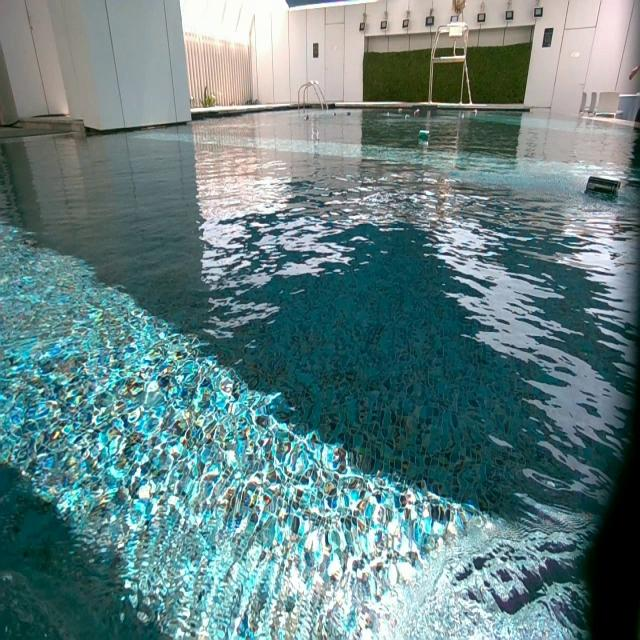Cans: (586, 177, 620, 200), (418, 132, 430, 142), (305, 114, 312, 121), (347, 110, 353, 117), (415, 108, 421, 115), (472, 110, 477, 116), (405, 115, 411, 120), (387, 111, 391, 117), (332, 112, 337, 116), (398, 109, 403, 113), (461, 114, 465, 119)
